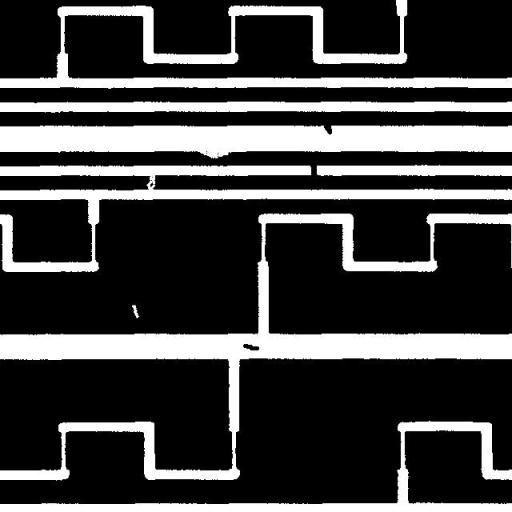copper: (236, 336, 266, 358)
mousebite: (192, 142, 239, 166)
open: (138, 166, 162, 198)
pin-hole: (124, 296, 146, 326)
short: (302, 154, 325, 186)
spur: (312, 110, 339, 142)
